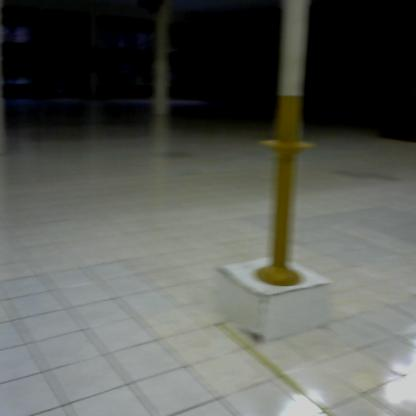pole: (250, 93, 320, 293)
